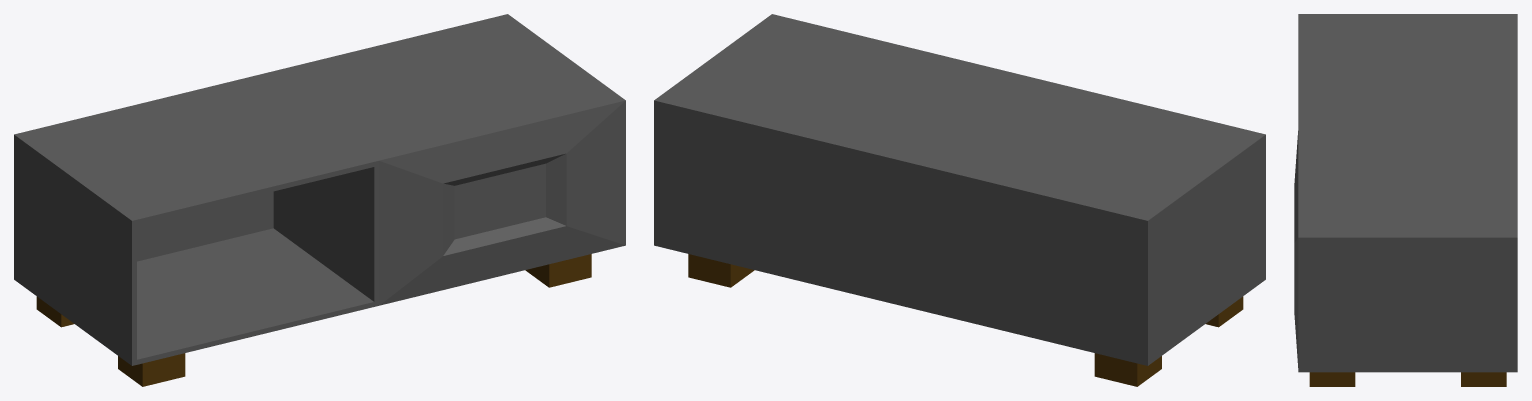
File: TV stand.fbx
The picture shows the model from 3 angles, left to right: view 1: azimuth 30°, elevation 25°; view 2: azimuth 150°, elevation 25°; view 3: azimuth 270°, elevation 25°; orthographic projection. The views are drawn at different scales.
Visible parts, largest first — view 1: TV stand; view 2: TV stand; view 3: TV stand.
Boxes of the visible parts, x1,y1,x2,y2 form: TV stand: [14, 14, 625, 386]; TV stand: [654, 14, 1265, 386]; TV stand: [1294, 14, 1517, 386].
Size of the model in its own units: 483 by 163 by 204.
